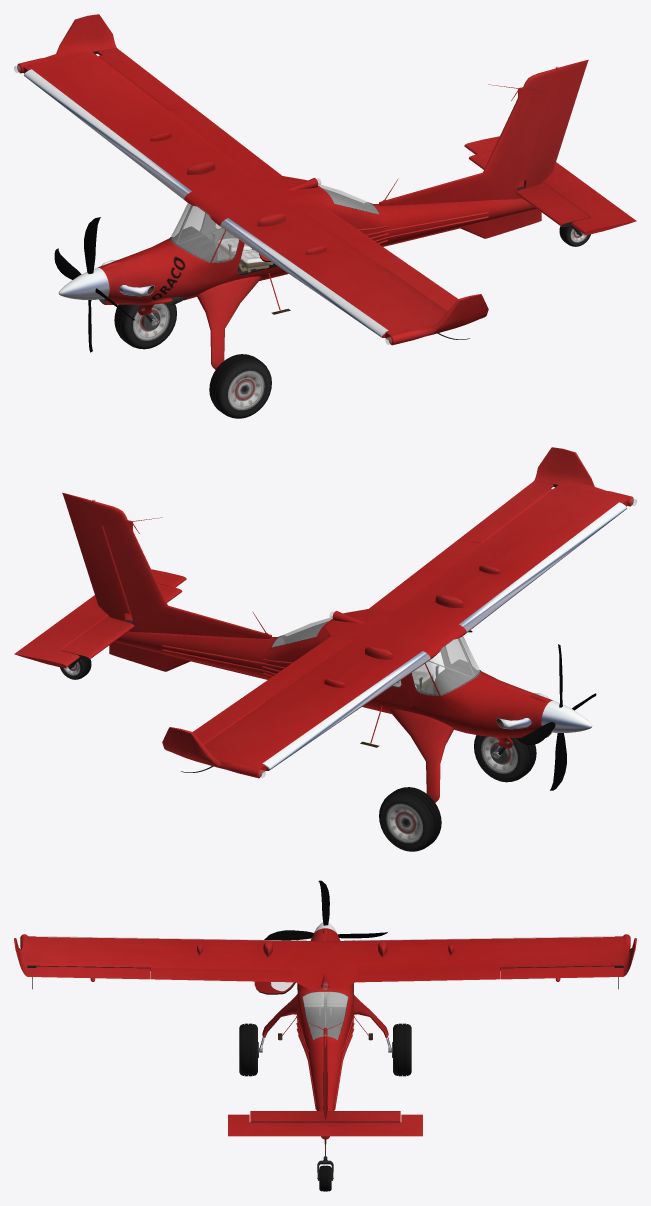
The model's file is pzl_104_wilga_2000_draco.glb.
3 renders of one model, top to bottom at view 1: azimuth 30°, elevation 25°; view 2: azimuth 150°, elevation 25°; view 3: azimuth 270°, elevation 25°, orthographic. The views are drawn at different scales.
Visible parts, largest first — view 1: Object_17, Object_16, Object_20, Object_12, Object_6, Object_9; view 2: Object_17, Object_16, Object_20, Object_12, Object_6; view 3: Object_17, Object_16, Object_20, Object_12, Object_9.
Part boxes in pixels (x1,y1,x2,y2): Object_17: (17, 14, 589, 369); Object_16: (24, 50, 636, 418); Object_20: (14, 65, 558, 344); Object_12: (170, 188, 379, 274); Object_6: (172, 226, 217, 261); Object_9: (217, 238, 273, 272); Object_17: (61, 447, 633, 802); Object_16: (14, 481, 626, 851); Object_20: (92, 498, 636, 777); Object_12: (271, 621, 480, 695); Object_6: (433, 659, 478, 694); Object_17: (14, 928, 636, 1180); Object_16: (27, 880, 623, 1191); Object_20: (23, 934, 627, 1039); Object_12: (256, 941, 353, 1039); Object_9: (303, 992, 347, 1015).
Bounding box in the file's own units: 9.08 × 3.69 × 11.39.
17 materials, 16 textured.
